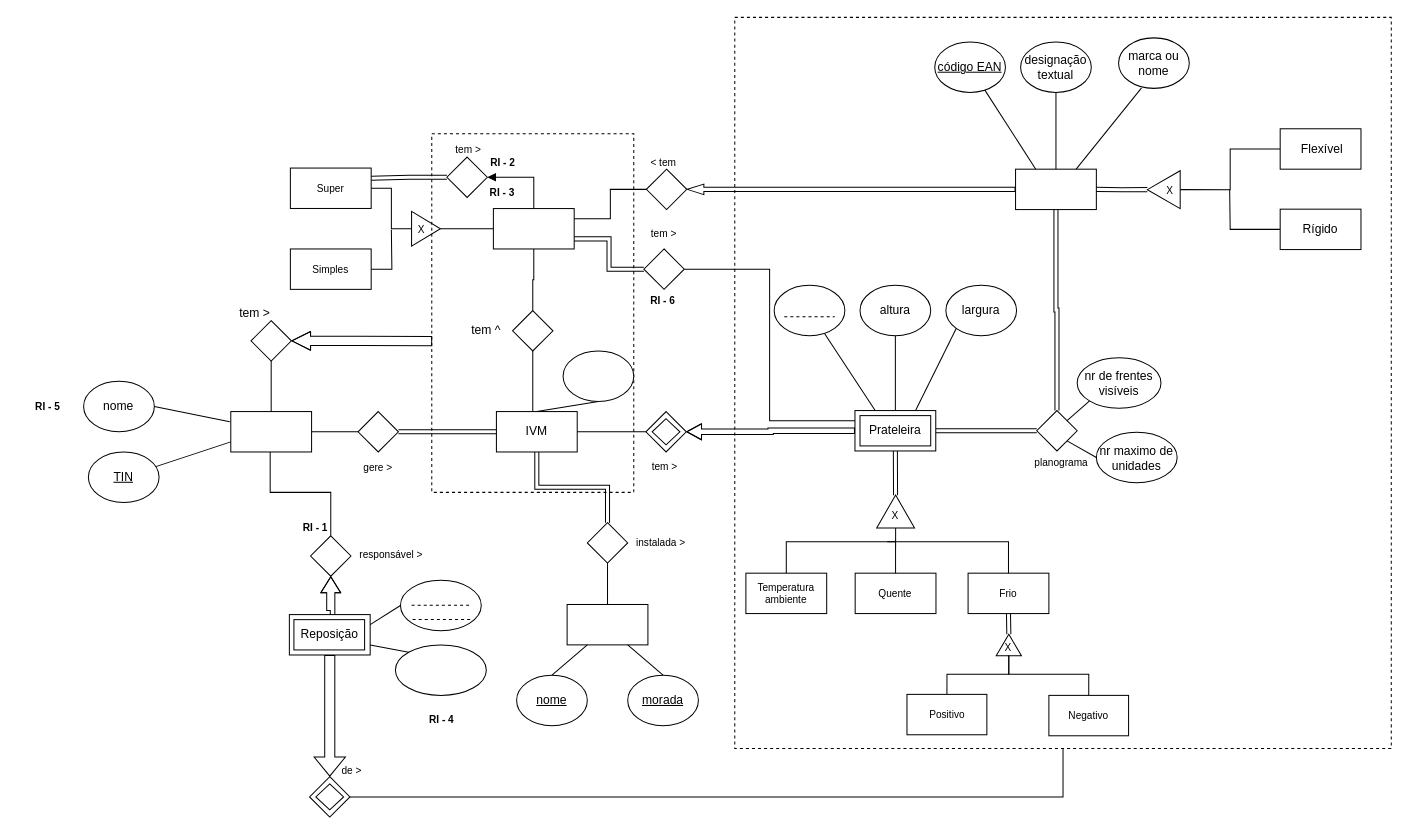
Some shapes in this 1409 by 835 pixel diagram are drawn without their labels. The box of each missing label's shape, as (x1, y1, x2, y2) in pixels:
Categoria: (492, 208, 574, 249)
momento de reposição: (399, 579, 481, 631)
nr de unidades substituidas: (394, 644, 486, 695)
número: (773, 284, 845, 336)
número de série: (562, 350, 634, 401)
Ponto de Retalho: (566, 603, 648, 645)
Produto: (1015, 168, 1096, 210)
Retalhista: (230, 411, 312, 452)
